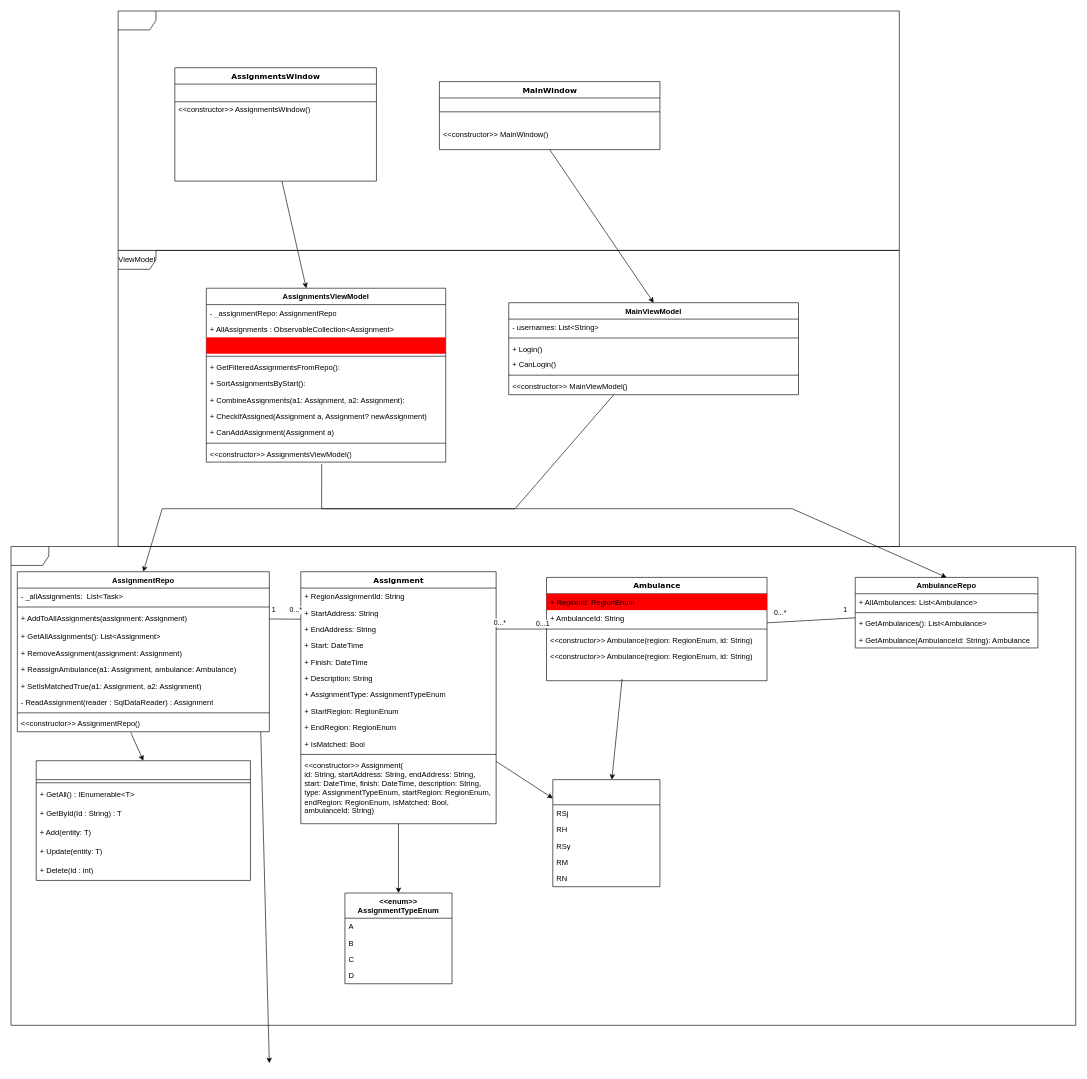
This 1087x1079 diagram has some shape labels left out. The box of each missing label's shape, as (x1, y1, x2, y2) in pixels:
+ AllAmbulances: ObservableCollection<Ambulance>: (206, 337, 445, 353)
<<enum>> RegionEnum: (552, 779, 660, 887)
IRepository: (36, 760, 250, 880)
Model: (10, 546, 1076, 1025)
View: (117, 10, 899, 250)
